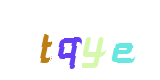E: (79, 0, 159, 80)
Q: (29, 0, 109, 80)
T: (5, 0, 85, 80)
Y: (39, 0, 119, 80)
